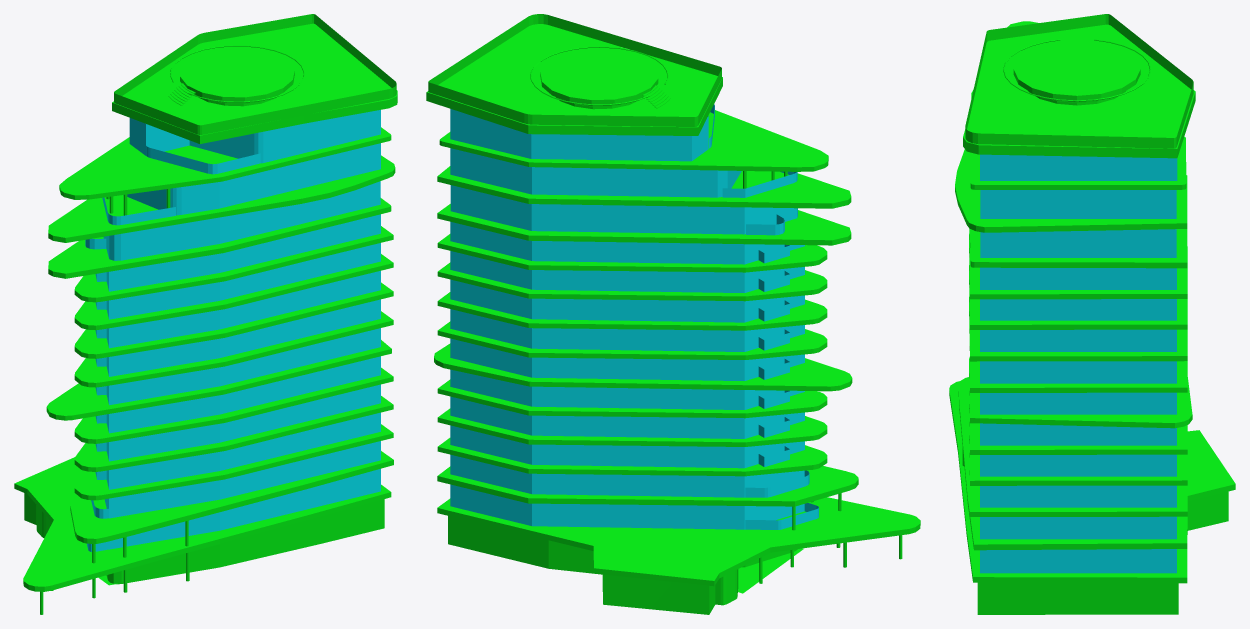
File: 20220512_LivingTomorrow_TheBuilding_A001 1.fbx
3 renders of one model, left to right at view 1: azimuth 30°, elevation 25°; view 2: azimuth 150°, elevation 25°; view 3: azimuth 270°, elevation 25°, orthographic. The views are drawn at different scales.
Visible parts, largest first — view 1: Object002, Plane049, Object003, Object001, Object012, Object008, Object007, Object006, Object004, Object011, Object009, Object010 (+1 smaller); view 2: Object002, Plane049, Object001, Object003, Object012, Object008, Object006, Object007, Object011, Object010, Object005, Object004 (+1 smaller); view 3: Object002, Plane049, Object003, Object001, Object012, Object008, Object006, Object007, Object004, Object011, Object010, Object005 (+1 smaller).
Part boxes in pixels (<box>): Object002: <box>59,14,397,199</box>; Plane049: <box>14,457,391,614</box>; Object003: <box>48,143,395,242</box>; Object001: <box>48,181,391,278</box>; Object012: <box>70,441,393,543</box>; Object008: <box>46,328,391,420</box>; Object007: <box>74,299,393,387</box>; Object006: <box>74,270,393,358</box>; Object004: <box>74,214,393,302</box>; Object011: <box>74,412,393,500</box>; Object009: <box>74,356,393,443</box>; Object010: <box>74,384,393,471</box>; Object002: <box>426,14,828,171</box>; Plane049: <box>437,484,920,614</box>; Object001: <box>437,185,851,245</box>; Object003: <box>437,148,851,208</box>; Object012: <box>437,454,858,506</box>; Object008: <box>434,338,852,391</box>; Object006: <box>437,279,827,330</box>; Object007: <box>437,309,827,359</box>; Object011: <box>437,425,827,476</box>; Object010: <box>437,396,827,446</box>; Object005: <box>437,251,827,301</box>; Object004: <box>437,221,827,272</box>; Object002: <box>963,14,1195,189</box>; Plane049: <box>949,381,1235,614</box>; Object003: <box>955,149,1187,232</box>; Object001: <box>970,229,1187,268</box>; Object012: <box>958,377,1187,550</box>; Object008: <box>970,377,1192,428</box>; Object006: <box>969,265,1187,361</box>; Object007: <box>969,297,1187,392</box>; Object004: <box>969,228,1187,299</box>; Object011: <box>969,421,1187,516</box>; Object010: <box>969,389,1187,485</box>; Object005: <box>969,234,1187,329</box>.
Bounding box in the file's own units: 89.52 × 99.83 × 52.8.
